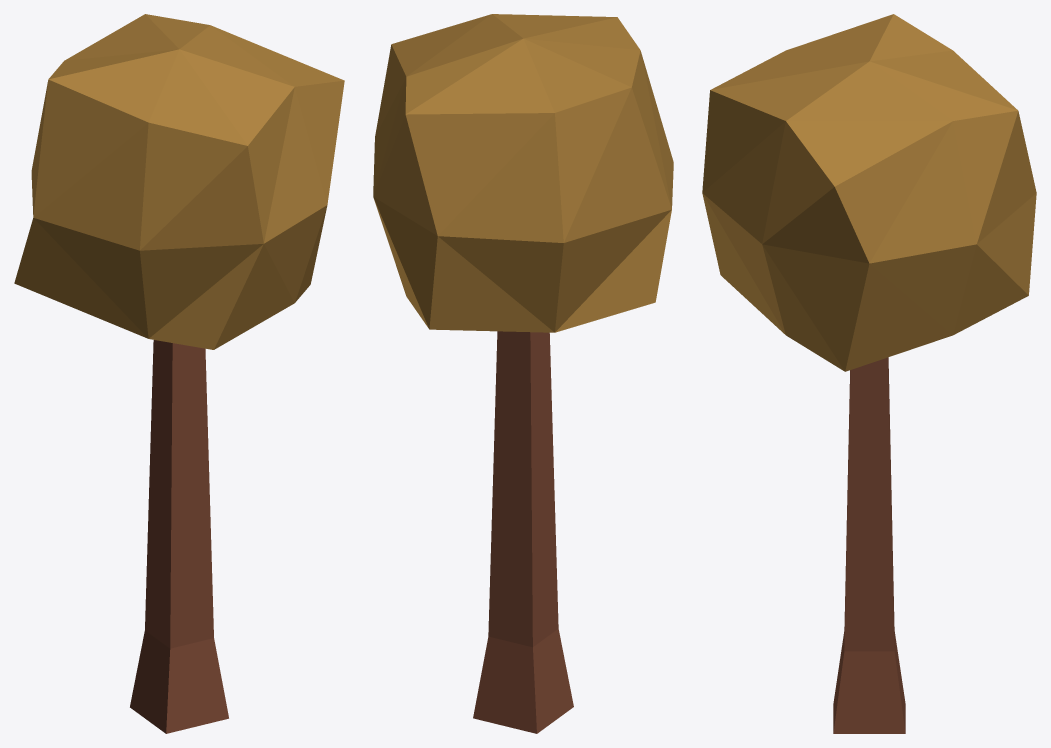
The model's file is Tree_42_autumn_vc.fbx.
The picture shows the model from 3 angles, left to right: view 1: azimuth 30°, elevation 25°; view 2: azimuth 150°, elevation 25°; view 3: azimuth 270°, elevation 25°; orthographic projection. The views are drawn at different scales.
Visible parts, largest first — view 1: Tree_42_autumn_vc; view 2: Tree_42_autumn_vc; view 3: Tree_42_autumn_vc.
Part boxes in pixels (left/top/right/bottom): Tree_42_autumn_vc: left=14, top=14, right=344, bottom=733; Tree_42_autumn_vc: left=373, top=14, right=673, bottom=733; Tree_42_autumn_vc: left=702, top=14, right=1036, bottom=733.
Size of the model in its own units: 98.78 by 212 by 97.79.
